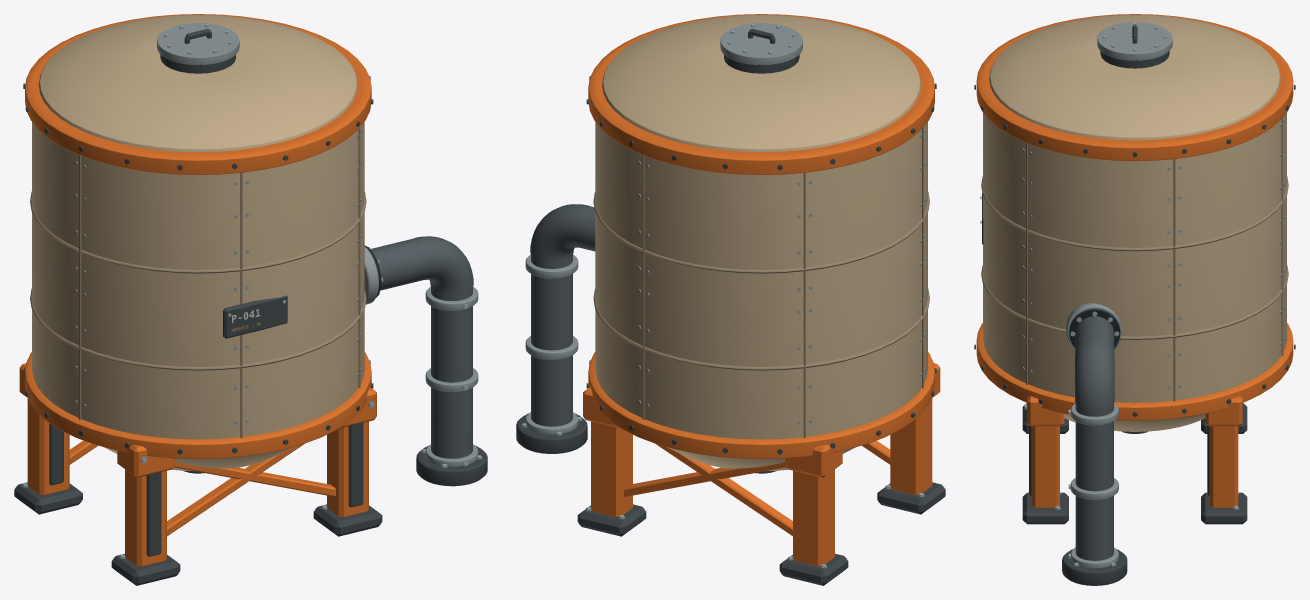
File: wsc-prop-041-industrial-tank.glb
3 views of the same model, side by side, from view 1: azimuth 30°, elevation 25°; view 2: azimuth 150°, elevation 25°; view 3: azimuth 270°, elevation 25° (orthographic). The views are drawn at different scales.
Parts seen in each view (by area): view 1: Vessel | warm field enamel, Safety orange, Graphite | satin enamel, Gunmetal | powder coated, Tumbled steel, Vessel | patina seam; view 2: Vessel | warm field enamel, Safety orange, Gunmetal | powder coated, Graphite | satin enamel, Vessel | patina seam, Tumbled steel; view 3: Vessel | warm field enamel, Safety orange, Gunmetal | powder coated, Graphite | satin enamel, Tumbled steel, Vessel | patina seam, Seal black.
Part boxes in pixels (left/top/right/bottom): Vessel | warm field enamel: left=32, top=15, right=364, bottom=471; Safety orange: left=19, top=14, right=376, bottom=566; Graphite | satin enamel: left=14, top=28, right=487, bottom=585; Gunmetal | powder coated: left=371, top=236, right=473, bottom=458; Tumbled steel: left=22, top=23, right=482, bottom=558; Vessel | patina seam: left=30, top=127, right=366, bottom=438; Vessel | warm field enamel: left=595, top=15, right=927, bottom=471; Safety orange: left=583, top=14, right=940, bottom=566; Gunmetal | powder coated: left=530, top=204, right=595, bottom=426; Graphite | satin enamel: left=516, top=28, right=945, bottom=585; Vessel | patina seam: left=593, top=127, right=929, bottom=438; Tumbled steel: left=521, top=23, right=925, bottom=568; Vessel | warm field enamel: left=983, top=15, right=1286, bottom=431; Safety orange: left=976, top=14, right=1293, bottom=507; Gunmetal | powder coated: left=1075, top=316, right=1114, bottom=560; Graphite | satin enamel: left=974, top=25, right=1295, bottom=585; Tumbled steel: left=981, top=22, right=1284, bottom=568; Vessel | patina seam: left=981, top=117, right=1288, bottom=401; Seal black: left=1069, top=309, right=1120, bottom=347.
Bounding box in the file's own units: 2.51 × 2.78 × 1.84.
